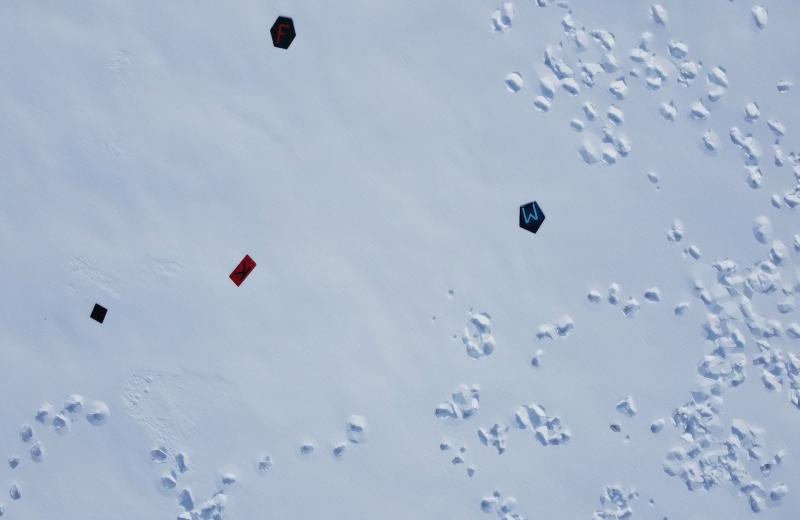Hexagon: (266, 13, 298, 51)
Pentagon: (515, 198, 549, 236)
Rectangle: (227, 252, 258, 287)
Square: (88, 300, 108, 326)
